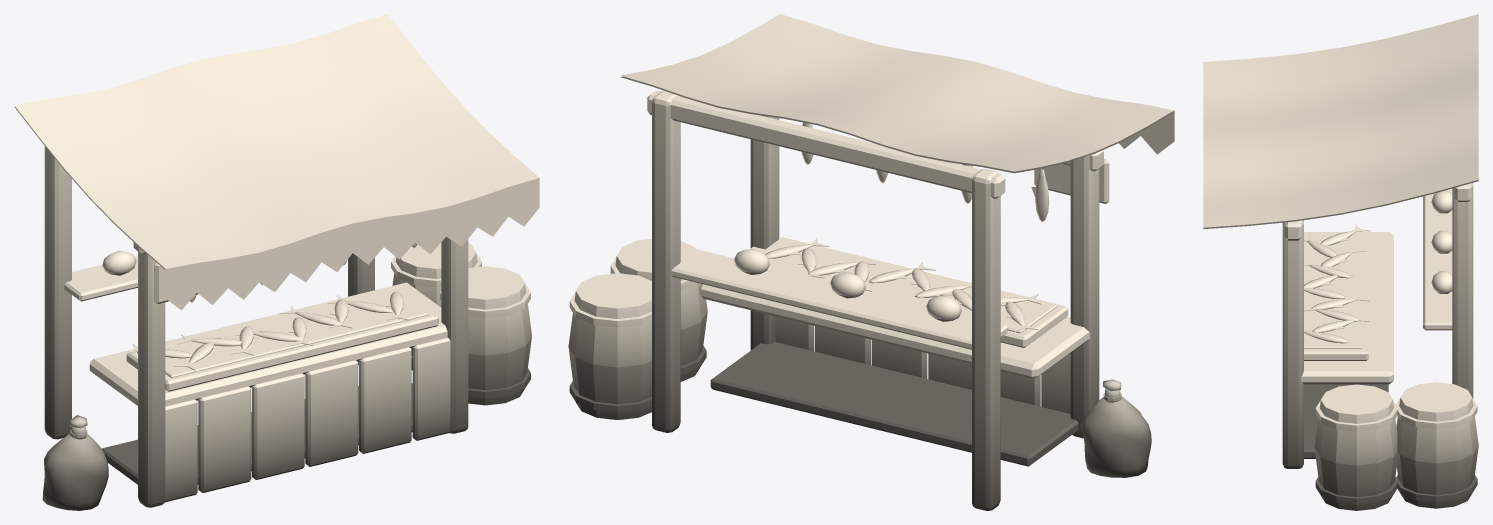
The model's file is SM_VK_MarketStall_Fishmonger.fbx.
3 renders of one model, left to right at view 1: azimuth 30°, elevation 25°; view 2: azimuth 150°, elevation 25°; view 3: azimuth 270°, elevation 25°, orthographic. The views are drawn at different scales.
Visible parts, largest first — view 1: SM_VK_MarketStall_Fishmonger.001; view 2: SM_VK_MarketStall_Fishmonger.001; view 3: SM_VK_MarketStall_Fishmonger.001.
Part boxes in pixels (x1=…): SM_VK_MarketStall_Fishmonger.001: x1=14, y1=14, x2=539, y2=510; SM_VK_MarketStall_Fishmonger.001: x1=568, y1=14, x2=1174, y2=510; SM_VK_MarketStall_Fishmonger.001: x1=1203, y1=14, x2=1478, y2=510.
Bounding box in the file's own units: 4.87 × 3.17 × 2.6.
